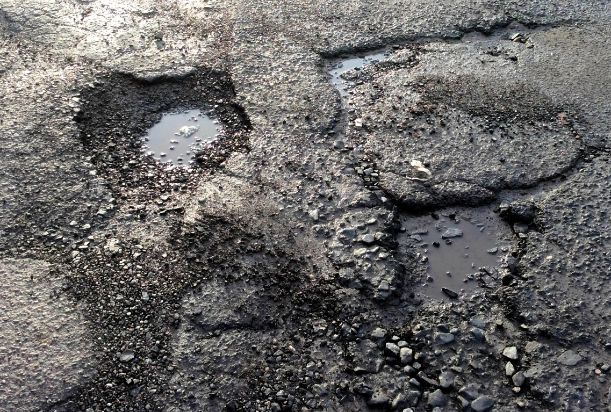pothole: (371, 195, 545, 331), (70, 65, 256, 184)
